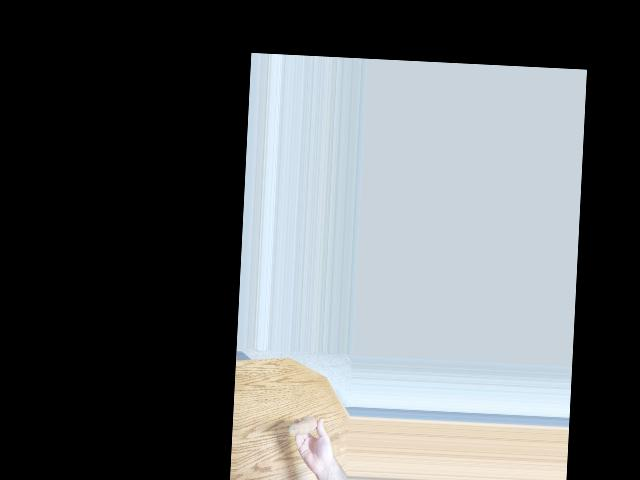sweet_potato: (288, 418, 319, 438)
